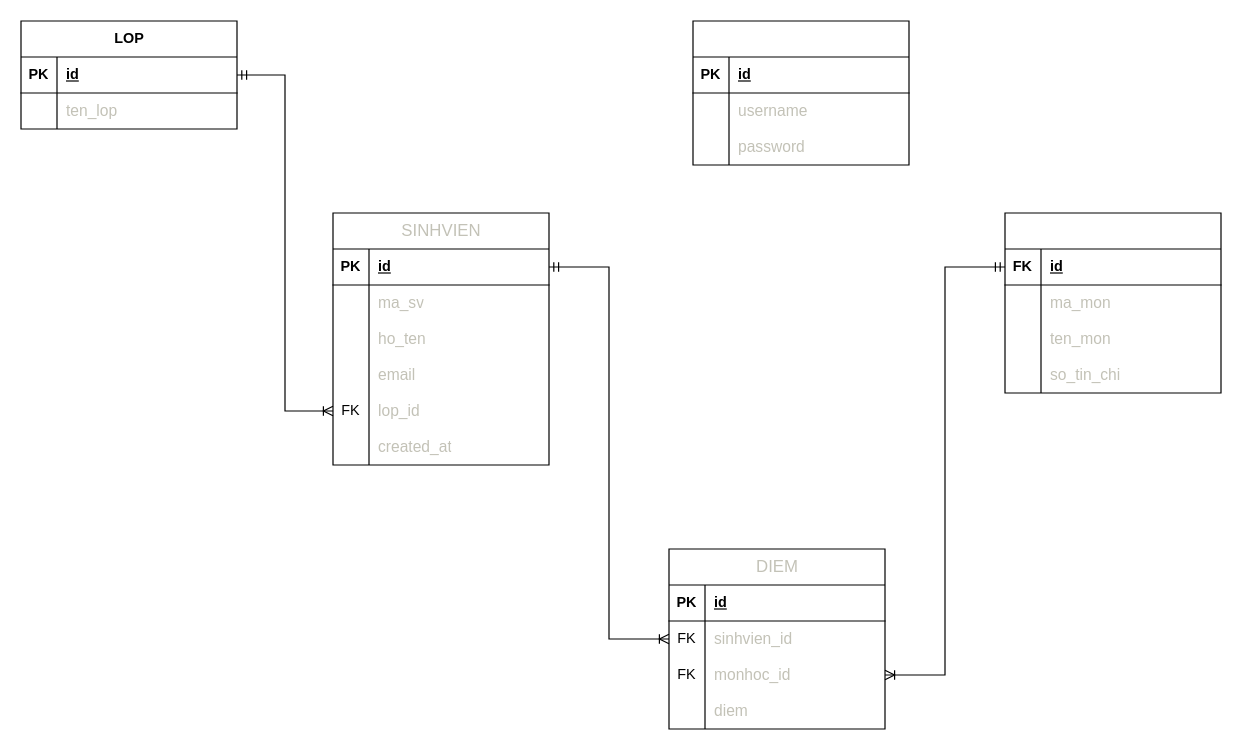
This 1242x750 diagram has some shape labels left out. Each missing label, with the box of its shape:
MONHOC: (1004, 212, 1221, 393)
NGUOIDUNG: (692, 20, 909, 165)
